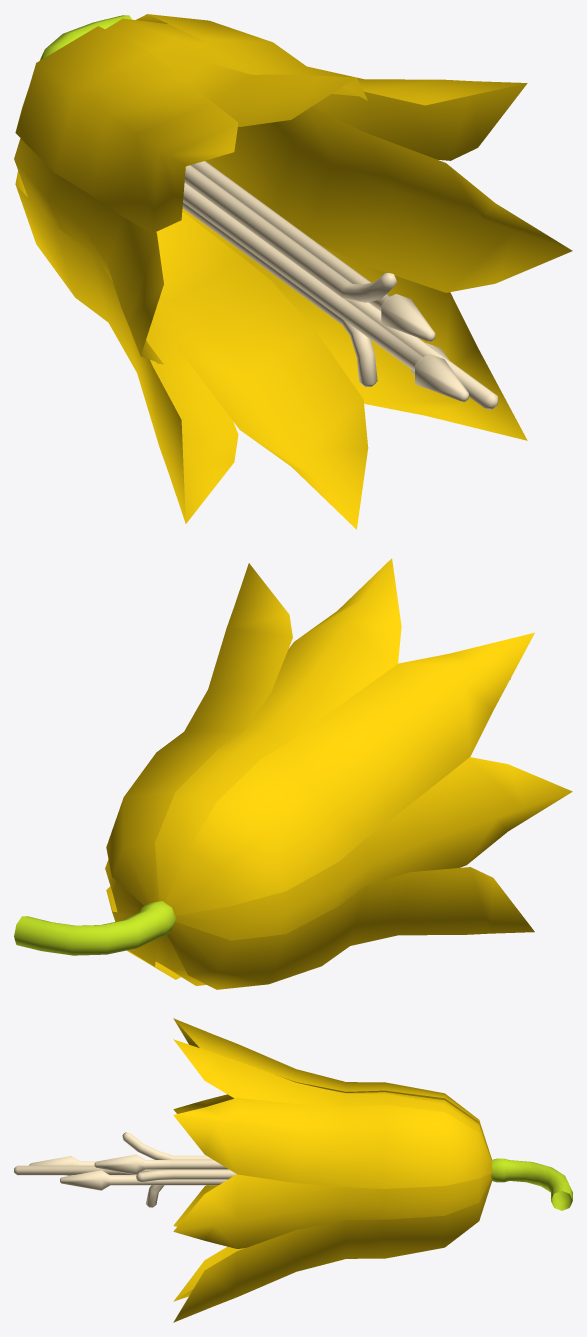
The model's file is moneyflower.fbx.
3 views of the same model, one above another, from view 1: azimuth 30°, elevation 25°; view 2: azimuth 150°, elevation 25°; view 3: azimuth 270°, elevation 25° (orthographic). The views are drawn at different scales.
Parts seen in each view (by area): view 1: yellow_layers; view 2: yellow_layers; view 3: yellow_layers.
Boxes of the visible parts, x1,y1,x2,y2 form: yellow_layers: [14, 14, 572, 529]; yellow_layers: [14, 558, 572, 989]; yellow_layers: [14, 1018, 572, 1322].
Bounding box in the file's own units: 11.49 × 11.49 × 22.15.
